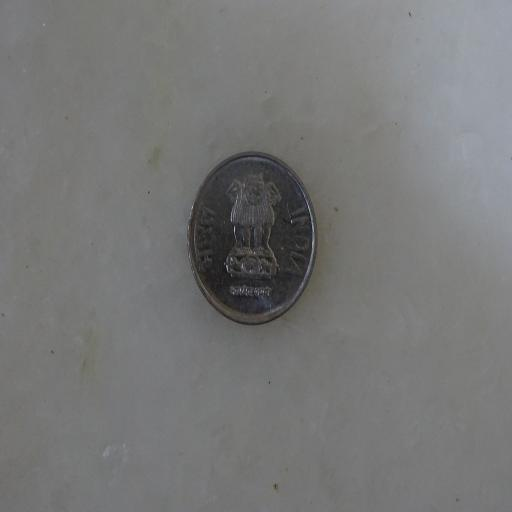rupee1: (185, 152, 318, 326)
